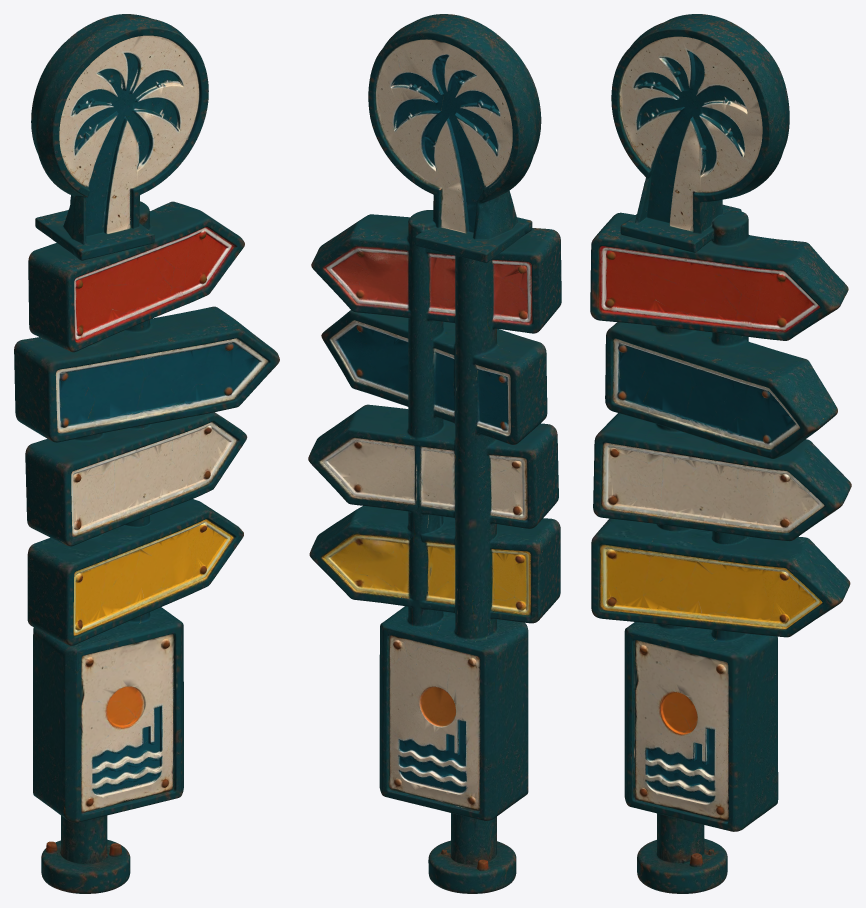
The model's file is wayfinder.glb.
The picture shows the model from 3 angles, left to right: view 1: azimuth 30°, elevation 25°; view 2: azimuth 150°, elevation 25°; view 3: azimuth 330°, elevation 25°; orthographic projection. The views are drawn at different scales.
Size of the model in its own units: 0.5276 by 1.9 by 0.2409.
1 material, 1 textured.
